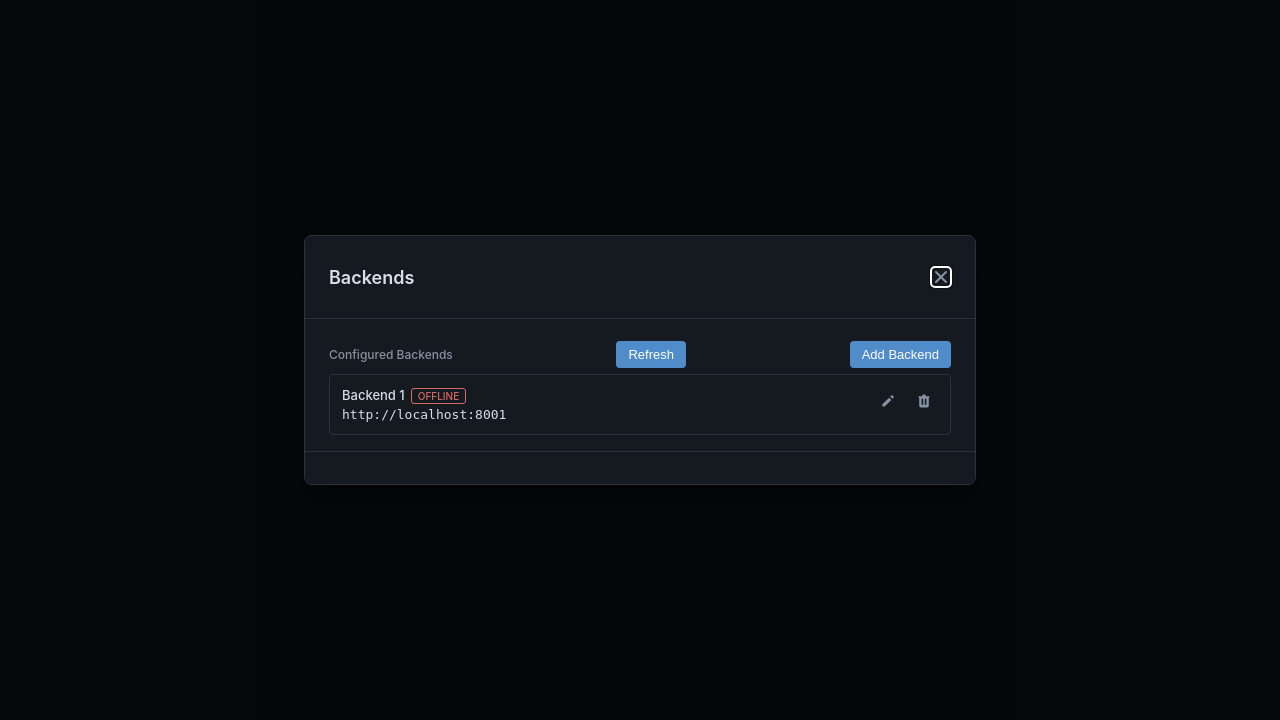
Test: BackendsDialog › warns instead of silently dropping when a header value is entered without a header name
The width and height of the screenshot is (1280, 720).
Click the button "Add Backend".
click(900, 355)  # box [850,341,951,368]
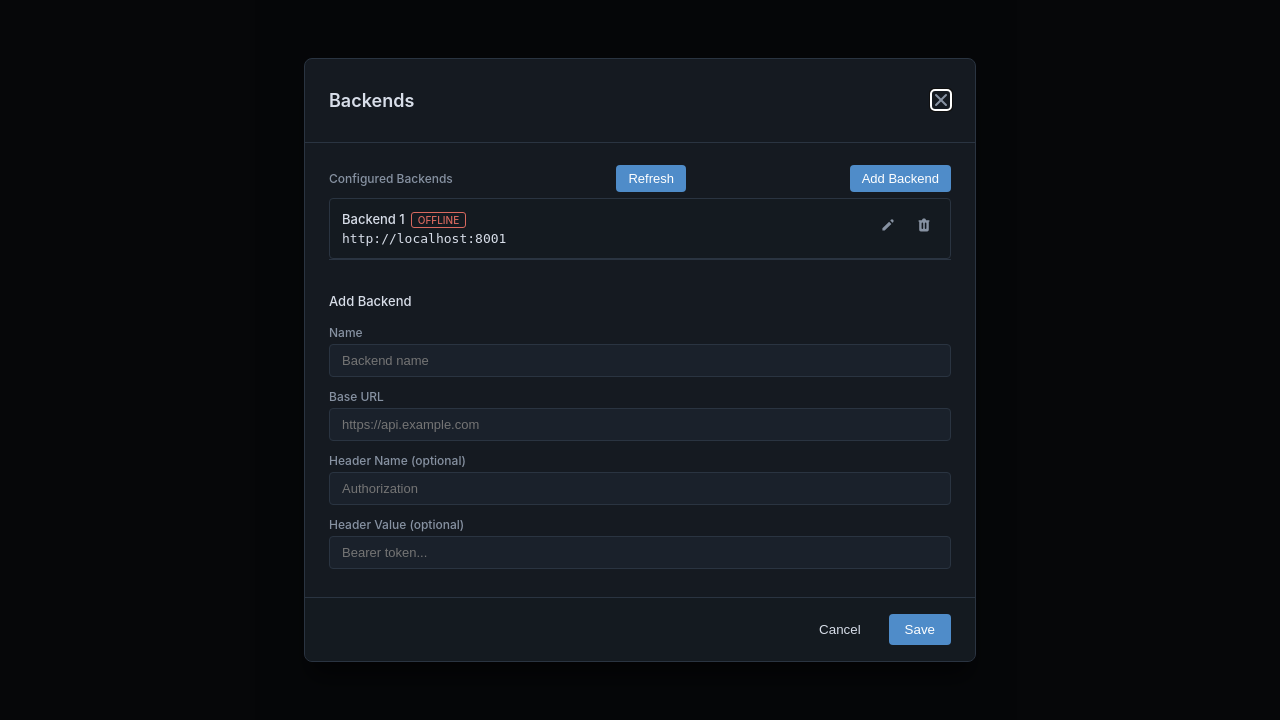
Type "some-secret" into the password field labelled "Header Value (optional)".
click(640, 553); type("some-secret")  # box [329,536,951,569]
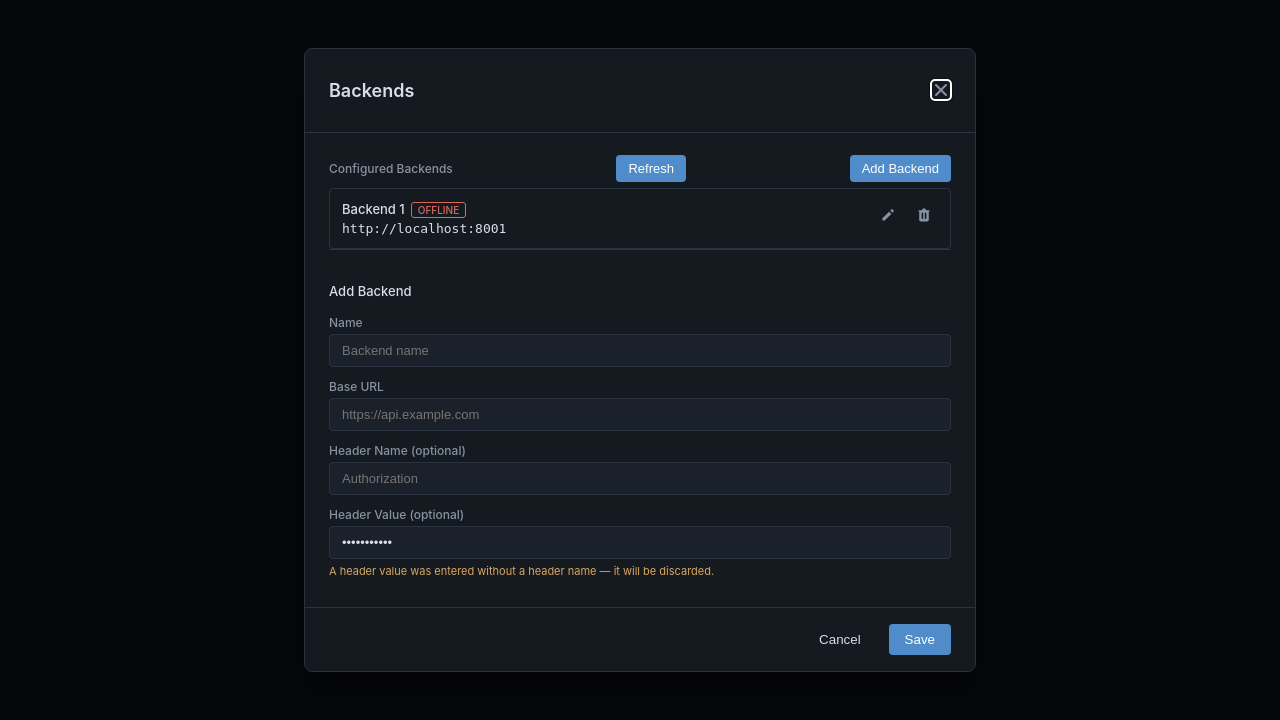
Expected: the text "A header value was entered without a header name — it will be discarded." is shown, [329,564,714,578]
